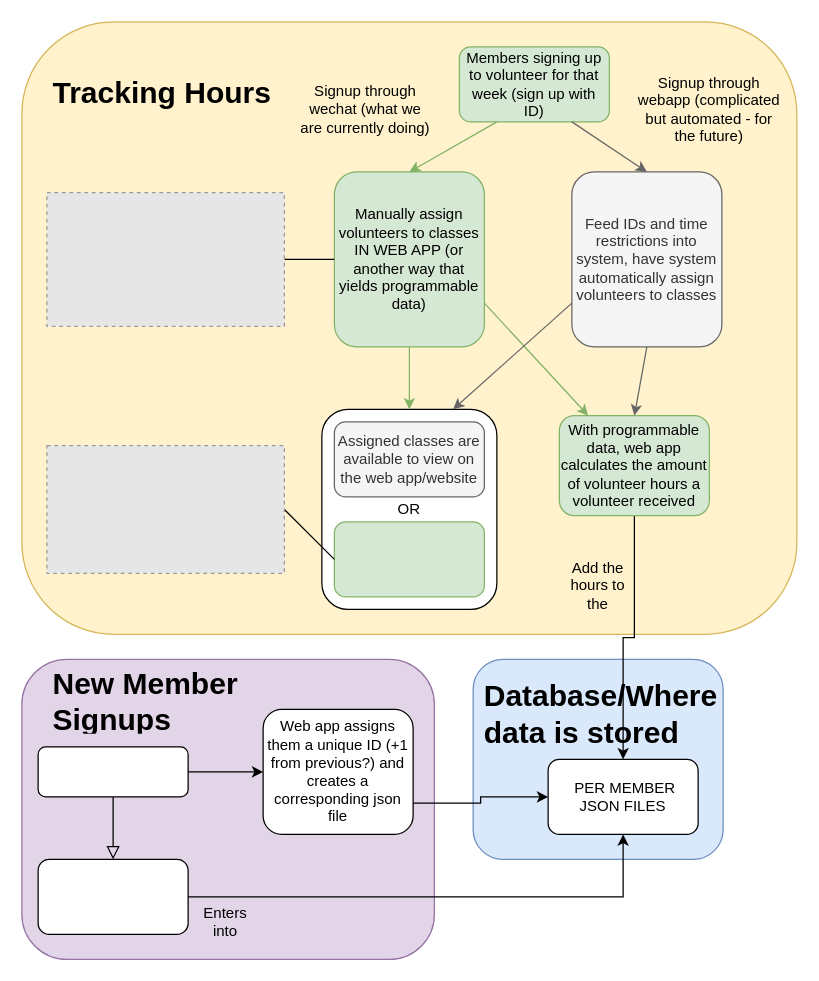
This 819x981 diagram has some shape labels left out. Grey dashed boxes stand in for pictures. The shapes that lost their labels are listed below. From the top down, each one's centre as x and y in pixels, then its label:
At (x=408, y=559): "Gives output that is copy pasted into wechat groups".
At (x=112, y=771): "New members signing up".
At (x=112, y=896): "Gets information from signup form that the user entered".
